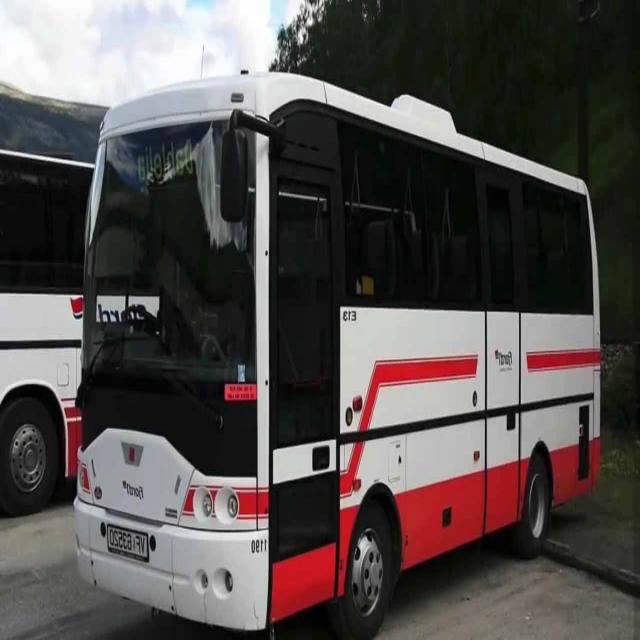bus: (72, 71, 605, 640)
